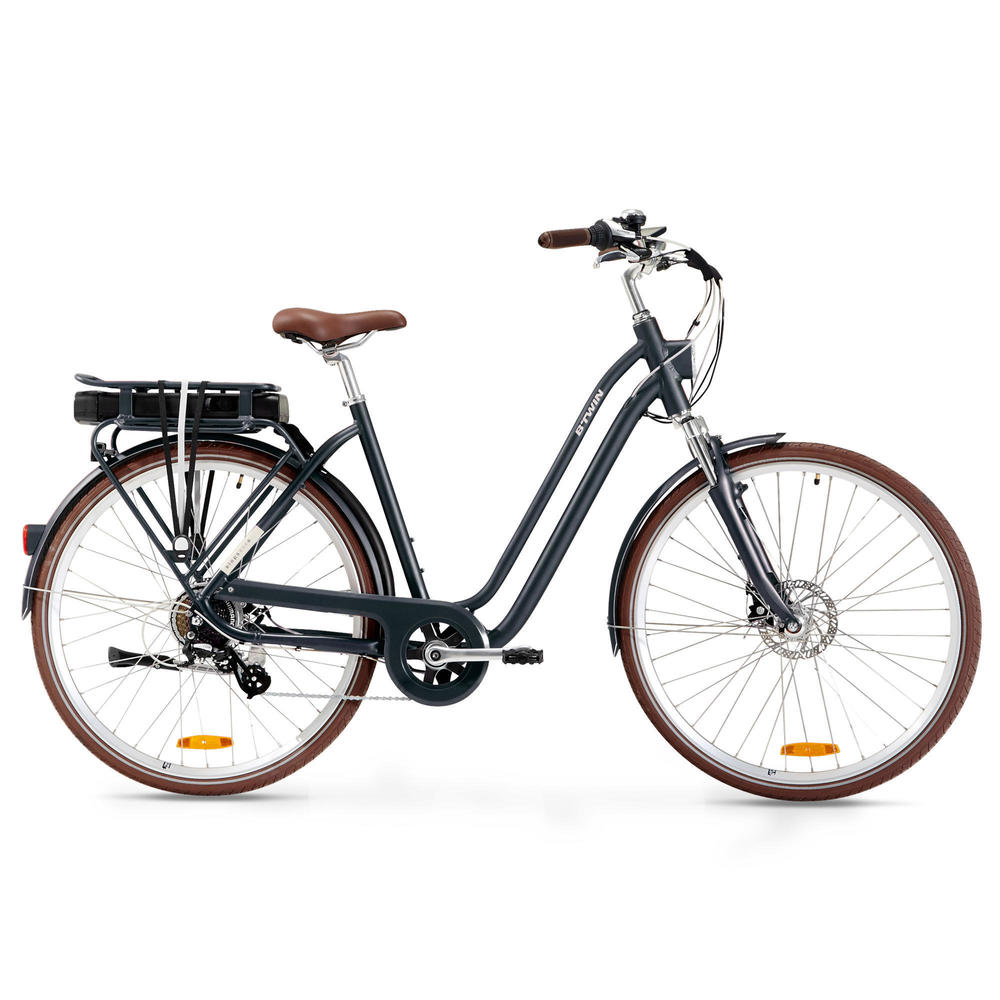UrbanBike: (9, 218, 1000, 812)
